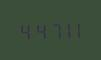four: (31, 20, 43, 40), (18, 21, 30, 40)
one: (57, 19, 69, 39), (70, 19, 82, 38)
seven: (44, 20, 56, 39)
